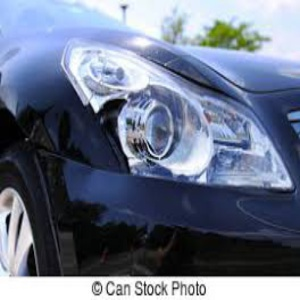head_lights: (60, 45, 278, 178)
